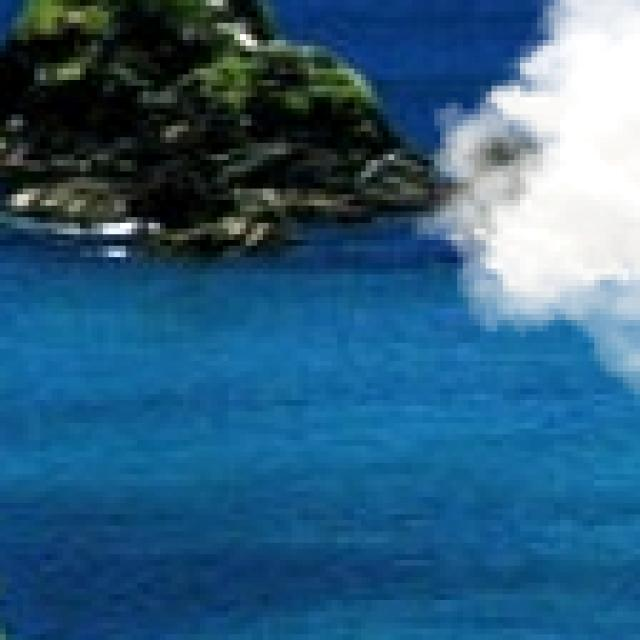smoke: (411, 0, 640, 406)
